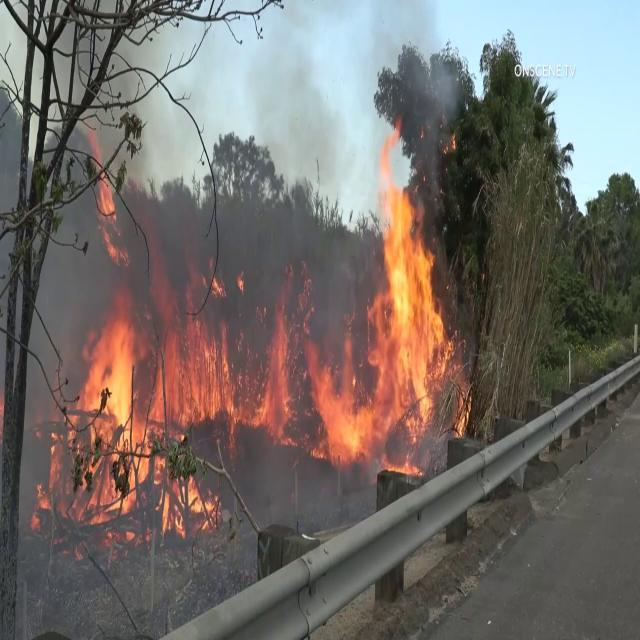Fire: (318, 141, 468, 467), (66, 296, 228, 526), (253, 304, 293, 441)
Smoke: (81, 147, 352, 340)
